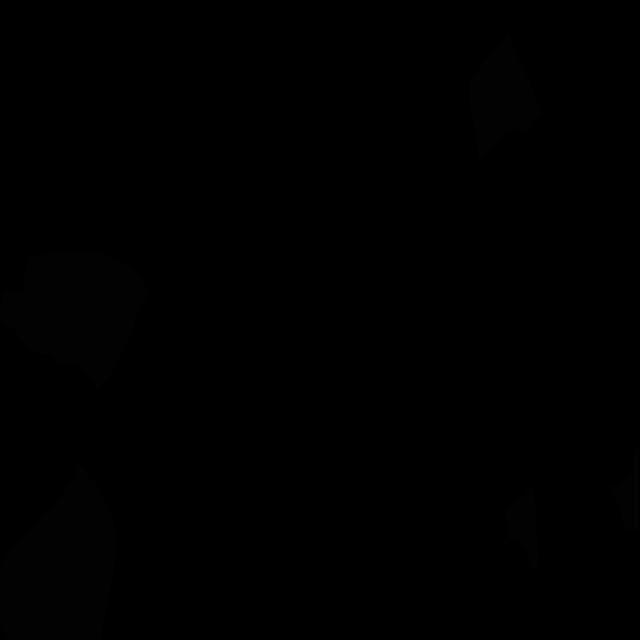cardboard: (0, 464, 117, 640), (0, 250, 148, 389), (468, 34, 541, 160), (505, 487, 538, 569), (610, 446, 640, 532)
